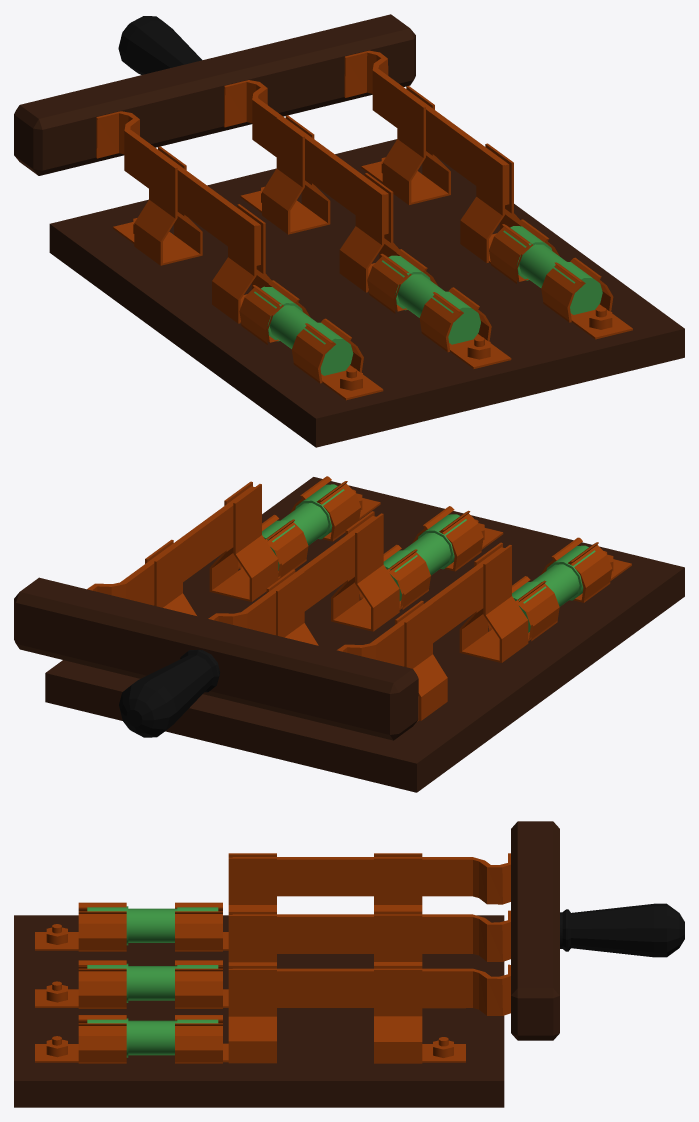
File: Switch.fbx
3 renders of one model, top to bottom at view 1: azimuth 30°, elevation 25°; view 2: azimuth 150°, elevation 25°; view 3: azimuth 270°, elevation 25°, orthographic. The views are drawn at different scales.
Visible parts, largest first — view 1: Switch_Housing, Switch_Lever; view 2: Switch_Housing, Switch_Lever; view 3: Switch_Housing, Switch_Lever.
Boxes of the visible parts, x1,y1,x2,y2 form: Switch_Housing: [49, 86, 684, 447]; Switch_Lever: [14, 14, 509, 265]; Switch_Housing: [45, 476, 684, 792]; Switch_Lever: [14, 486, 504, 740]; Switch_Housing: [14, 853, 504, 1107]; Switch_Lever: [232, 821, 684, 1040].
Size of the model in its own units: 32.66 by 53.88 by 10.55.
